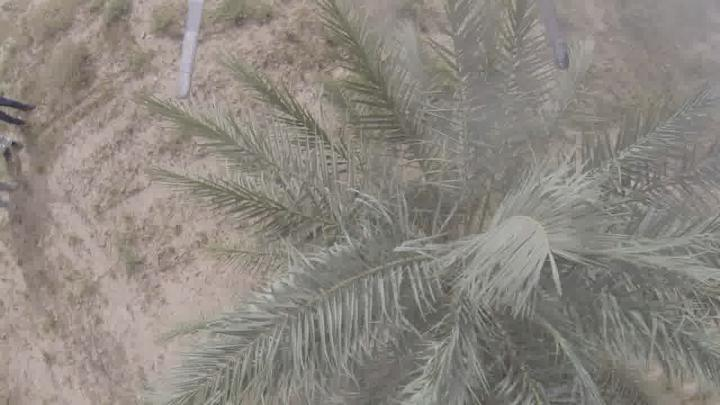Date-Palm-Crown: (277, 35, 679, 395)
